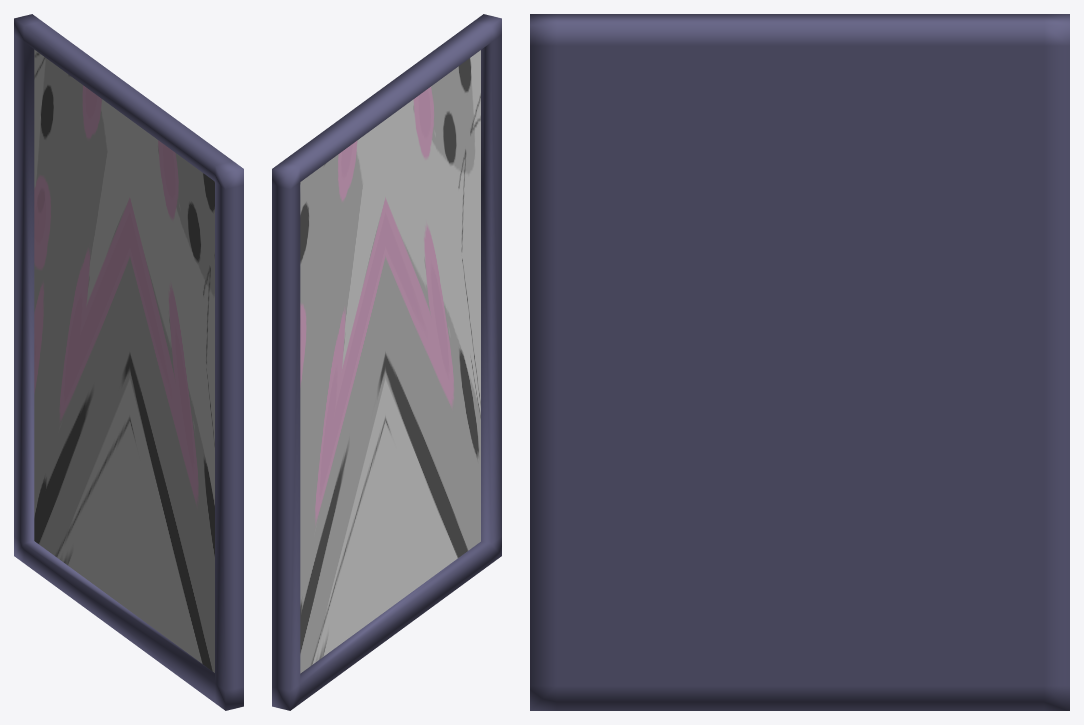
The model's file is cadre_02.fbx.
3 renders of one model, left to right at view 1: azimuth 30°, elevation 25°; view 2: azimuth 150°, elevation 25°; view 3: azimuth 270°, elevation 25°, orthographic. The views are drawn at different scales.
Parts seen in each view (by area): view 1: pasted__pasted__cadre; view 2: pasted__pasted__cadre; view 3: pasted__pasted__cadre.
Part boxes in pixels (x1=…): pasted__pasted__cadre: x1=14, y1=14, x2=243, y2=710; pasted__pasted__cadre: x1=272, y1=14, x2=501, y2=710; pasted__pasted__cadre: x1=530, y1=14, x2=1069, y2=710.
Size of the model in its own units: 0.2255 by 6.34 by 4.52.
